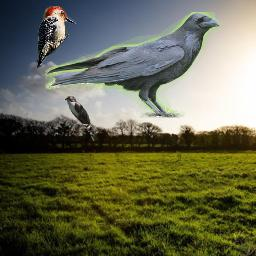Crow: (45, 12, 221, 118)
Cuckoo: (64, 96, 98, 141)
Woodpecker: (37, 6, 77, 68)
